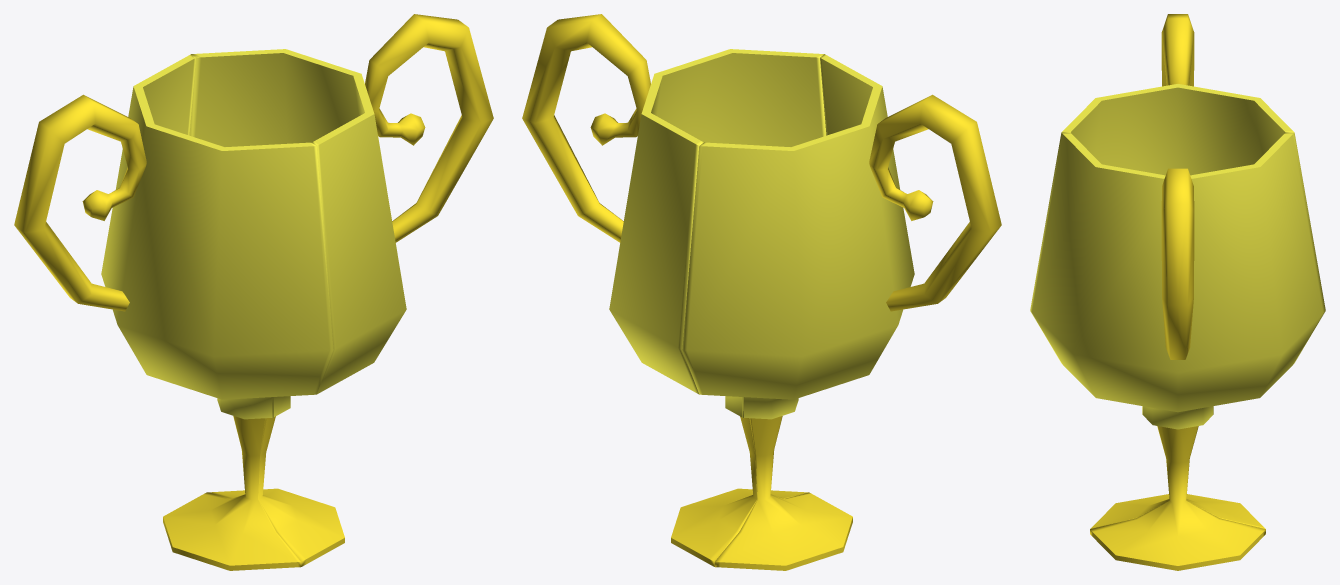
File: SM_Trophy_01a.fbx
3 views of the same model, side by side, from view 1: azimuth 30°, elevation 25°; view 2: azimuth 150°, elevation 25°; view 3: azimuth 270°, elevation 25° (orthographic). The views are drawn at different scales.
Visible parts, largest first — view 1: Trophy_02, Trophy_01; view 2: Trophy_02, Trophy_01; view 3: Trophy_01, Trophy_02.
Part boxes in pixels (x1=…): Trophy_02: x1=14, y1=54, x2=333, y2=570; Trophy_01: x1=189, y1=14, x2=493, y2=566; Trophy_02: x1=682, y1=54, x2=1001, y2=570; Trophy_01: x1=522, y1=14, x2=826, y2=566; Trophy_01: x1=1030, y1=132, x2=1325, y2=570; Trophy_02: x1=1061, y1=14, x2=1294, y2=528.
Size of the model in its own units: 31.63 by 30.55 by 18.59.
